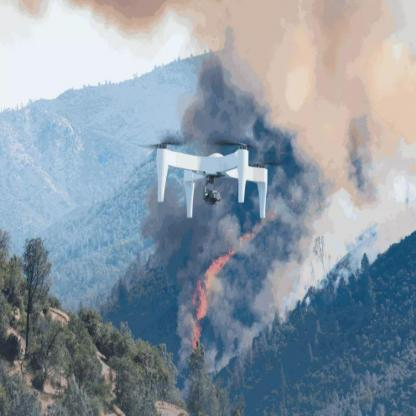fire: (190, 236, 236, 355), (236, 208, 260, 250), (266, 196, 278, 227), (288, 188, 294, 200)
other: (139, 132, 269, 219)
smoke: (173, 1, 414, 171), (308, 174, 411, 250), (67, 1, 168, 29), (264, 266, 302, 308), (12, 2, 46, 19)
